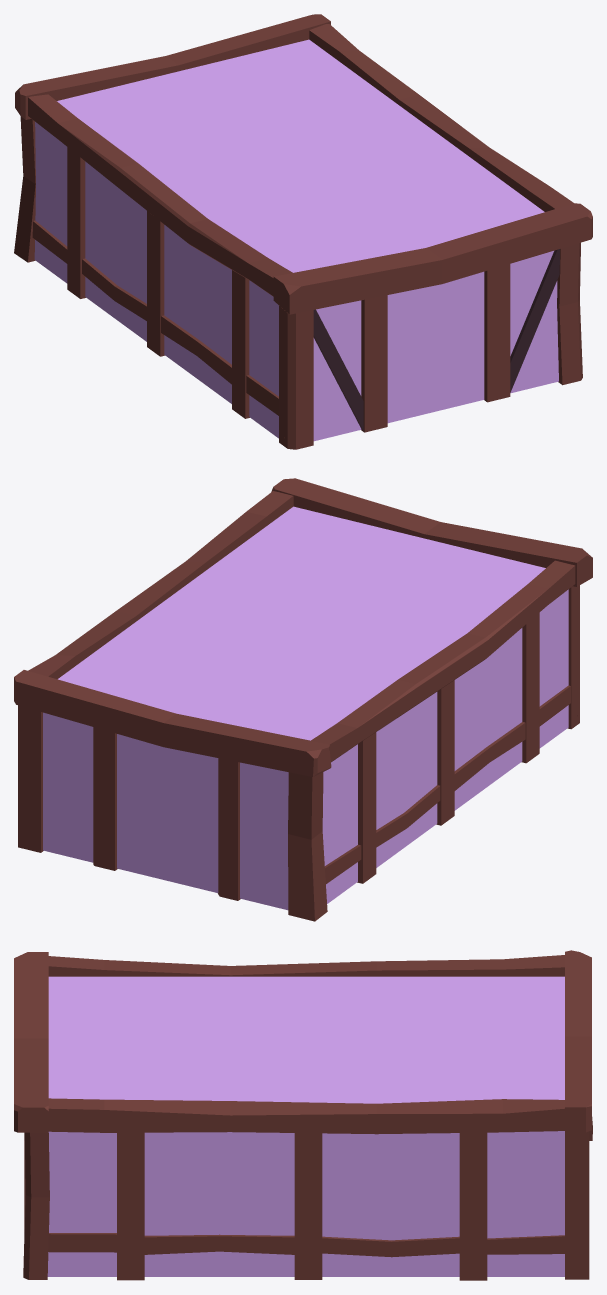
Rendered from BuildingBase_02.fbx.
3 renders of one model, top to bottom at view 1: azimuth 30°, elevation 25°; view 2: azimuth 150°, elevation 25°; view 3: azimuth 270°, elevation 25°, orthographic. The views are drawn at different scales.
Visible parts, largest first — view 1: BuildingBase_02; view 2: BuildingBase_02; view 3: BuildingBase_02.
Boxes of the visible parts, x1=… form: BuildingBase_02: x1=14, y1=14, x2=592, y2=449; BuildingBase_02: x1=14, y1=478, x2=592, y2=921; BuildingBase_02: x1=14, y1=950, x2=592, y2=1280.
Bounding box in the file's own units: 681 × 353 × 1057.
